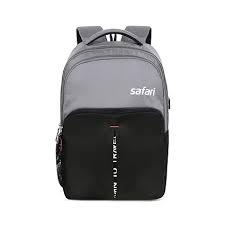backpack: (55, 24, 170, 200)
